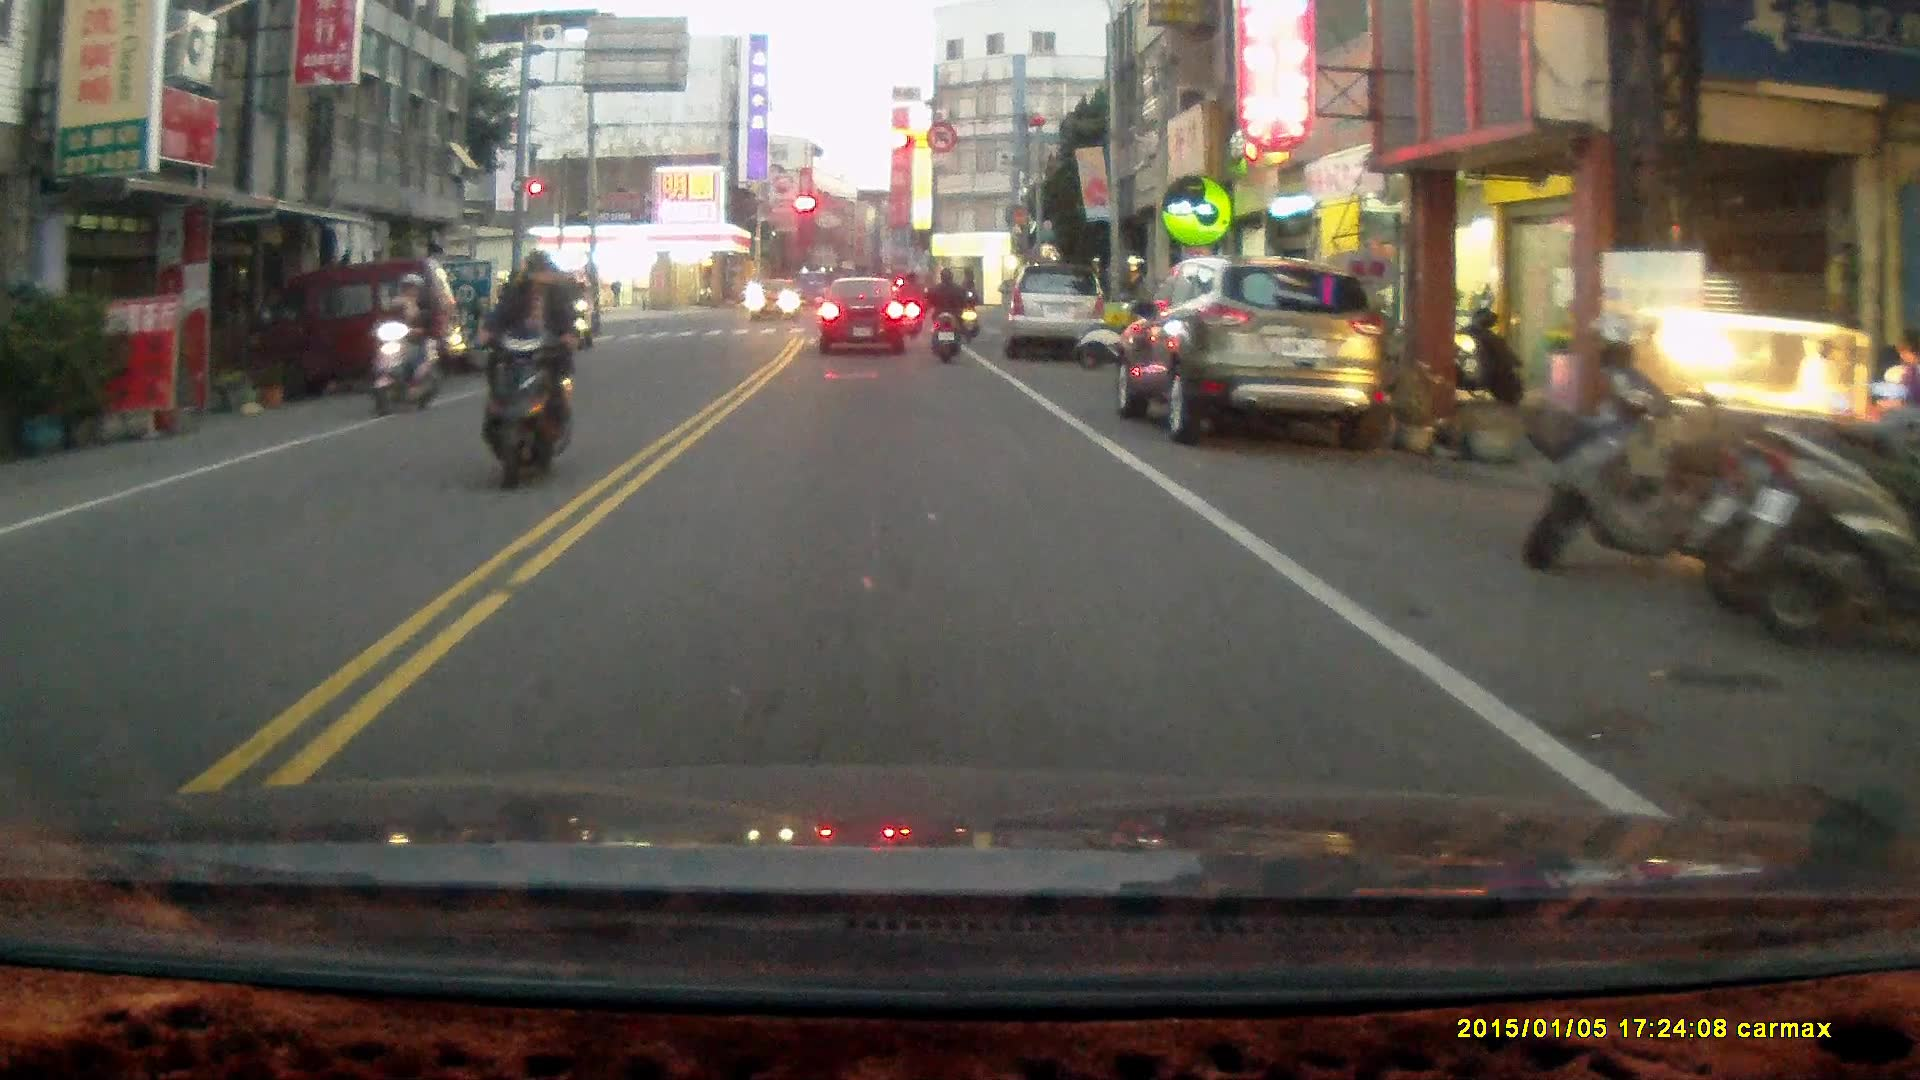rider: (454, 246, 588, 492), (367, 271, 447, 418), (920, 266, 966, 365), (896, 267, 926, 335), (955, 273, 981, 346)
vehicle: (1121, 257, 1386, 453), (243, 257, 467, 402), (1007, 268, 1110, 364), (819, 279, 911, 355), (743, 272, 802, 326)
